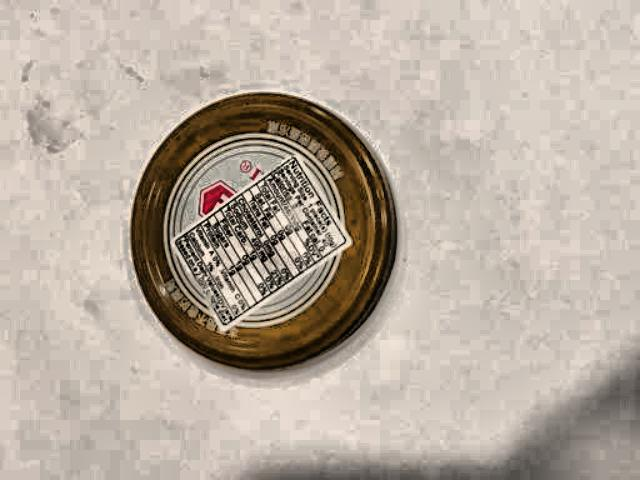Almennt: (113, 85, 411, 390)
